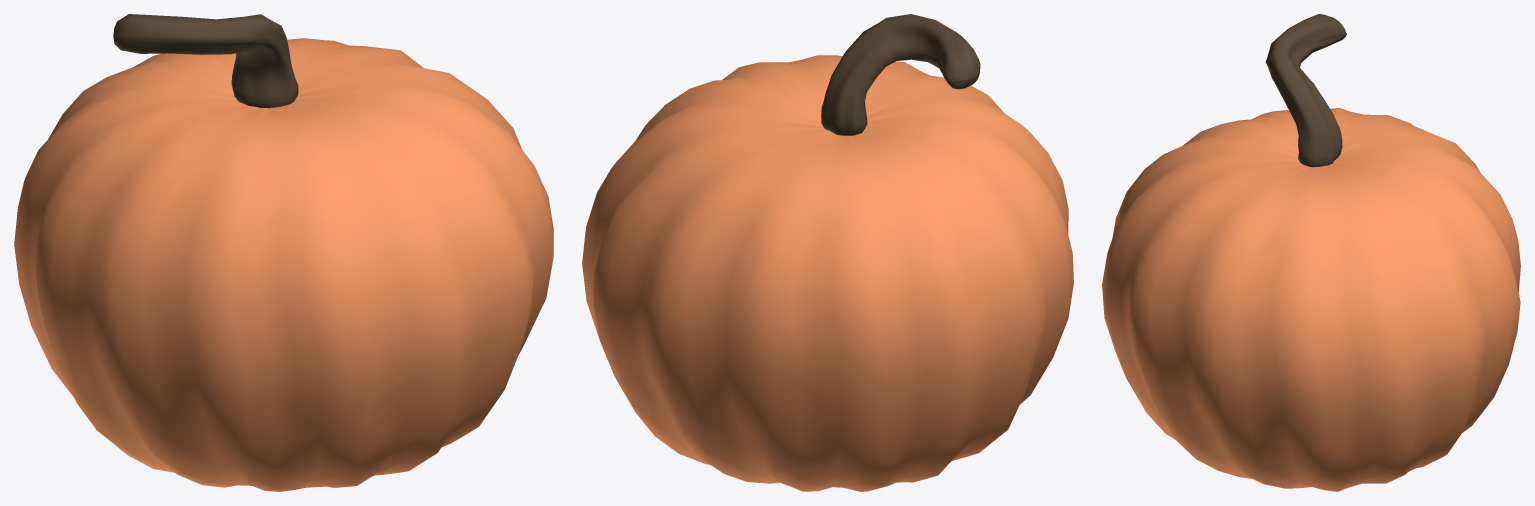
File: KabakBaglantili.fbx
3 renders of one model, left to right at view 1: azimuth 30°, elevation 25°; view 2: azimuth 150°, elevation 25°; view 3: azimuth 270°, elevation 25°, orthographic. The views are drawn at different scales.
Parts seen in each view (by area): view 1: Kabak.001, KabakSap.001; view 2: Kabak.001, KabakSap.001; view 3: Kabak.001, KabakSap.001.
Part boxes in pixels (x1,y1,x2,y2): Kabak.001: [14, 38, 553, 491]; KabakSap.001: [113, 14, 298, 108]; Kabak.001: [582, 55, 1073, 491]; KabakSap.001: [821, 14, 980, 135]; Kabak.001: [1102, 107, 1520, 491]; KabakSap.001: [1265, 14, 1346, 167].
Bounding box in the file's own units: 66.79 × 62.92 × 64.1.
